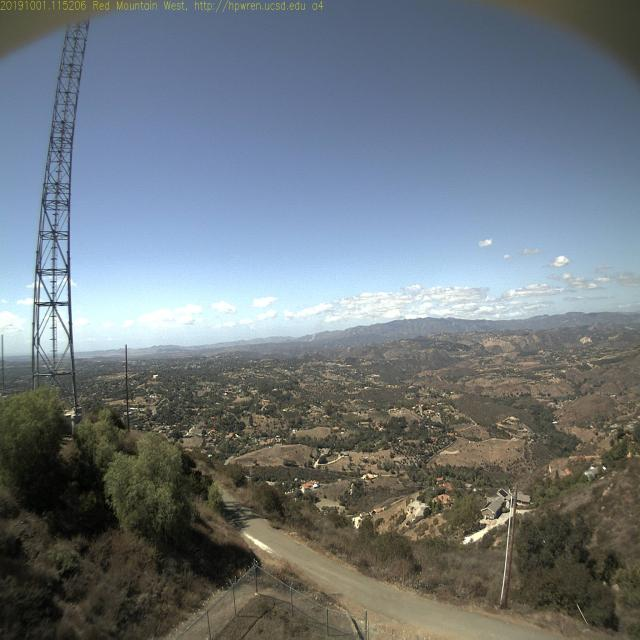smoke: (304, 328, 318, 344)
